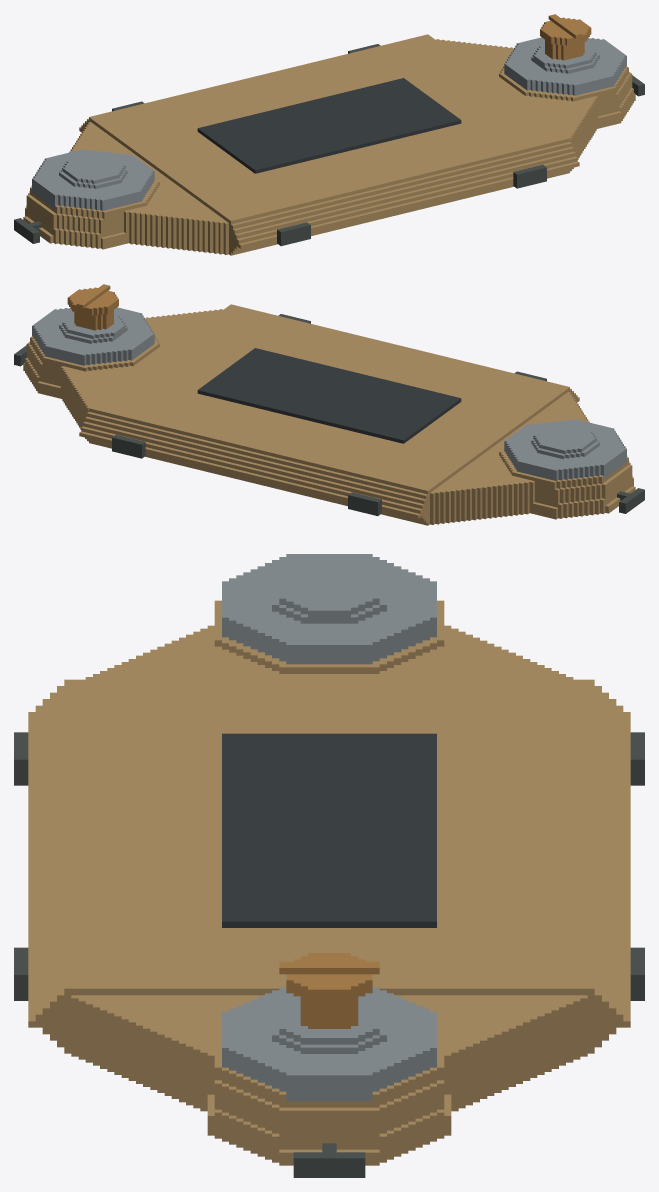
The model's file is collapsible_drum_water.glb.
3 renders of one model, top to bottom at view 1: azimuth 30°, elevation 25°; view 2: azimuth 150°, elevation 25°; view 3: azimuth 270°, elevation 25°, orthographic. The views are drawn at different scales.
Parts seen in each view (by area): view 1: collapsible_drum_water:compound; view 2: collapsible_drum_water:compound; view 3: collapsible_drum_water:compound.
Boxes of the visible parts, x1,y1,x2,y2 form: collapsible_drum_water:compound: [14, 14, 644, 255]; collapsible_drum_water:compound: [14, 284, 644, 525]; collapsible_drum_water:compound: [14, 554, 644, 1177].
Size of the model in its own units: 1.1 by 0.138 by 0.528.
